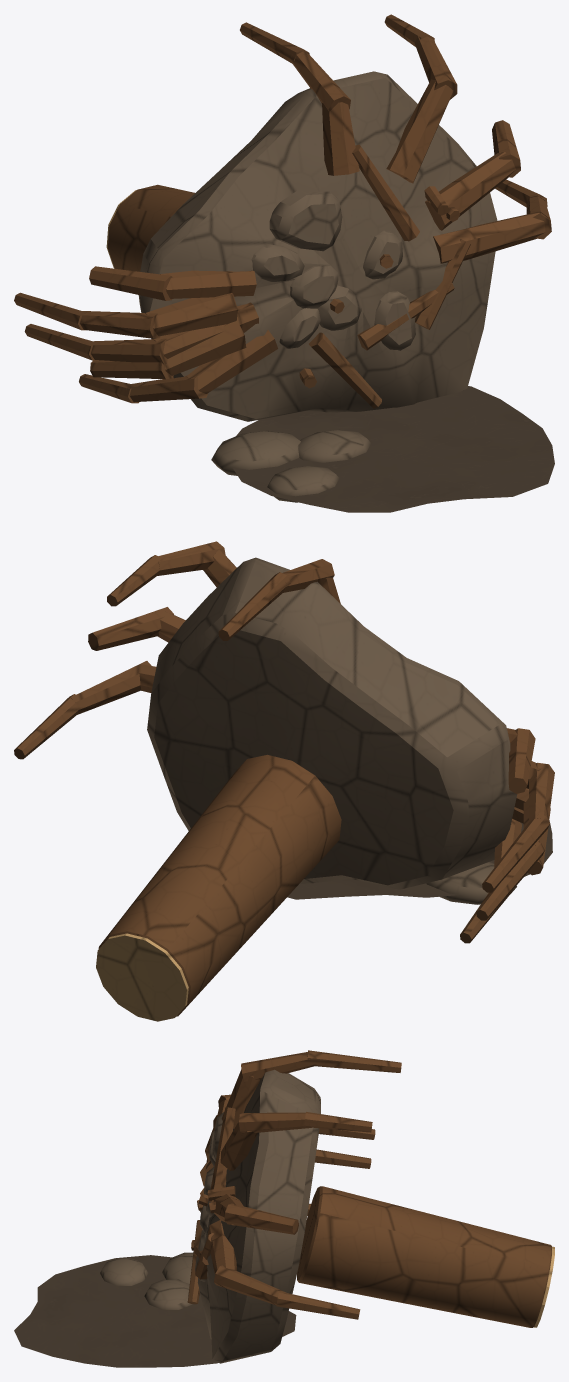
The model's file is root_tangle.glb.
3 renders of one model, top to bottom at view 1: azimuth 30°, elevation 25°; view 2: azimuth 150°, elevation 25°; view 3: azimuth 270°, elevation 25°, orthographic. The views are drawn at different scales.
Visible parts, largest first — view 1: root_tangle; view 2: root_tangle; view 3: root_tangle.
Part boxes in pixels (x1,y1,x2,y2): root_tangle: [14, 14, 554, 512]; root_tangle: [14, 541, 554, 1021]; root_tangle: [14, 1050, 554, 1367].
Bounding box in the file's own units: 3.76 × 2.57 × 4.47.
Materials: 4 (4 with a texture image).
